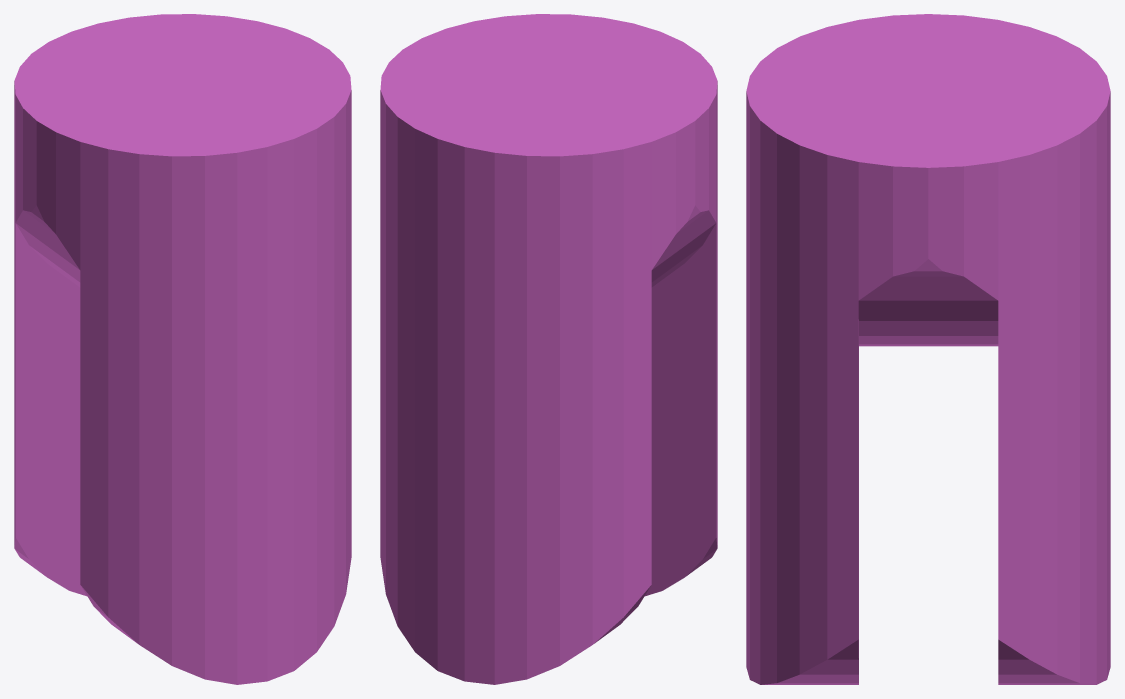
3 renders of one model, left to right at view 1: azimuth 30°, elevation 25°; view 2: azimuth 150°, elevation 25°; view 3: azimuth 270°, elevation 25°, orthographic. The views are drawn at different scales.
Visible parts, largest first — view 1: link_5; view 2: link_5; view 3: link_5.
Boxes of the visible parts, bbox=[...] form: link_5: bbox=[14, 14, 351, 684]; link_5: bbox=[380, 14, 717, 684]; link_5: bbox=[746, 14, 1110, 684].
Size of the model in its own units: 2 by 2 by 3.49.
